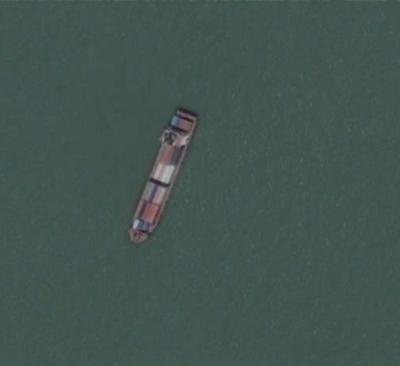Boat: (121, 107, 204, 250)
